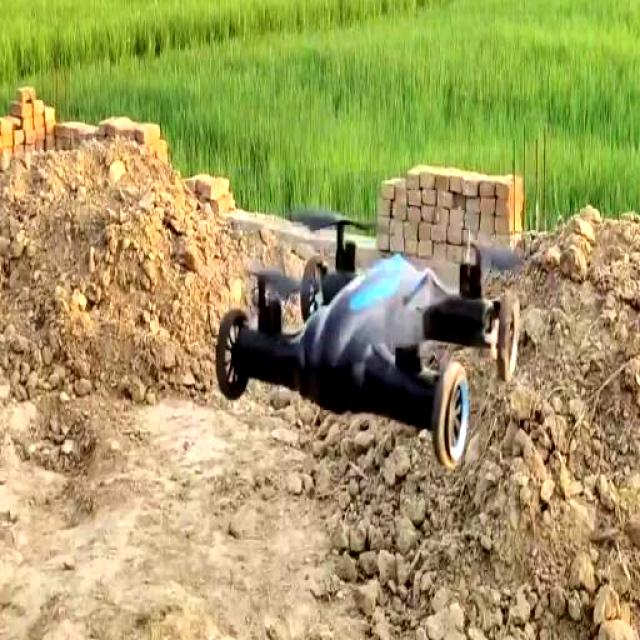bird: (209, 172, 529, 448), (526, 469, 535, 485)
